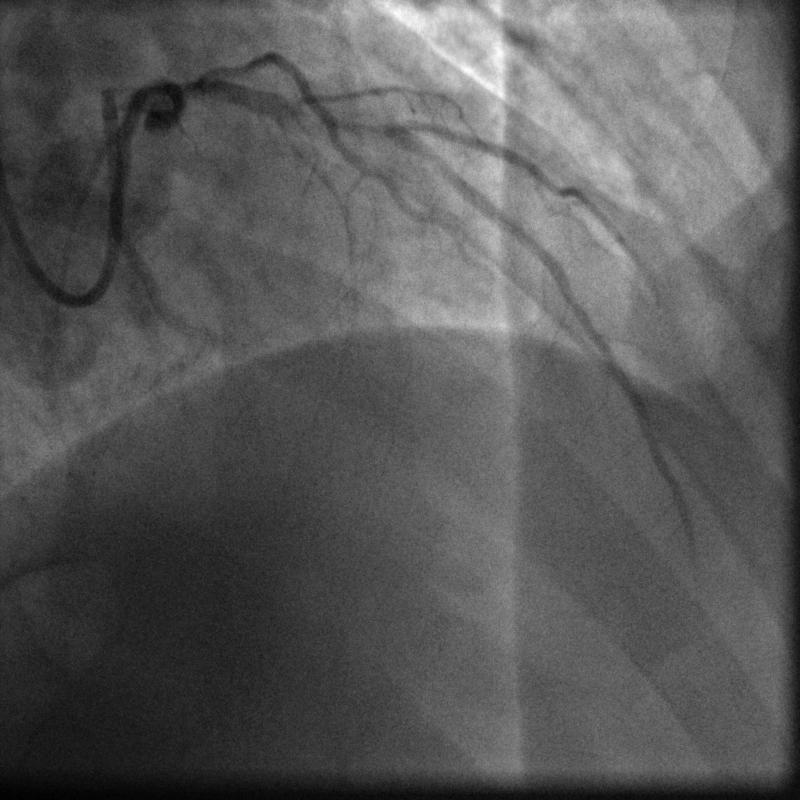Stenosis: (283, 102, 385, 140)
